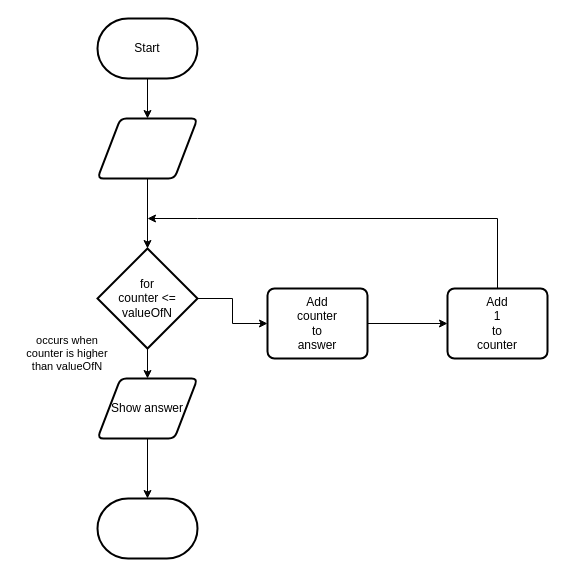
Image size: 565x576. Some labels were removed from this diagram. The centre of each missing label's shape, as x and y in pixels:
"Get valueOfN" belongs at pixel 147 148.
"Stop" belongs at pixel 147 528.
